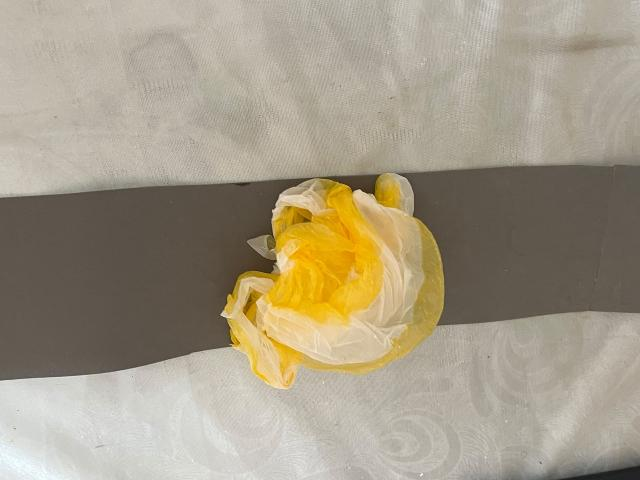LDPE: (201, 151, 467, 405)
